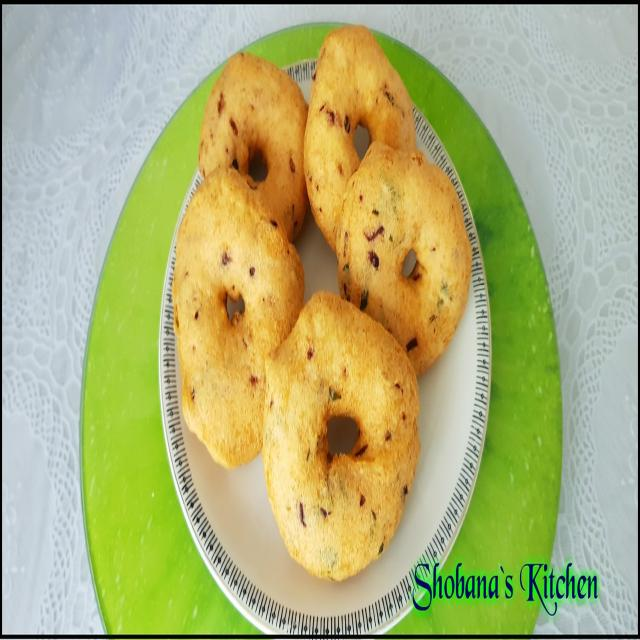medu vadai: (172, 24, 477, 580)
